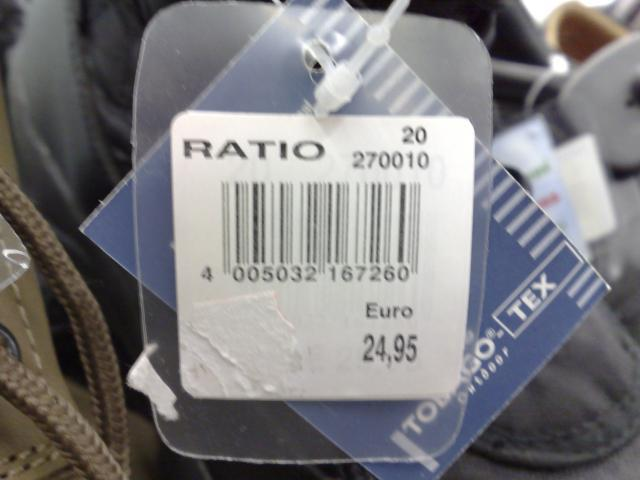Barkod: (218, 178, 418, 262)
